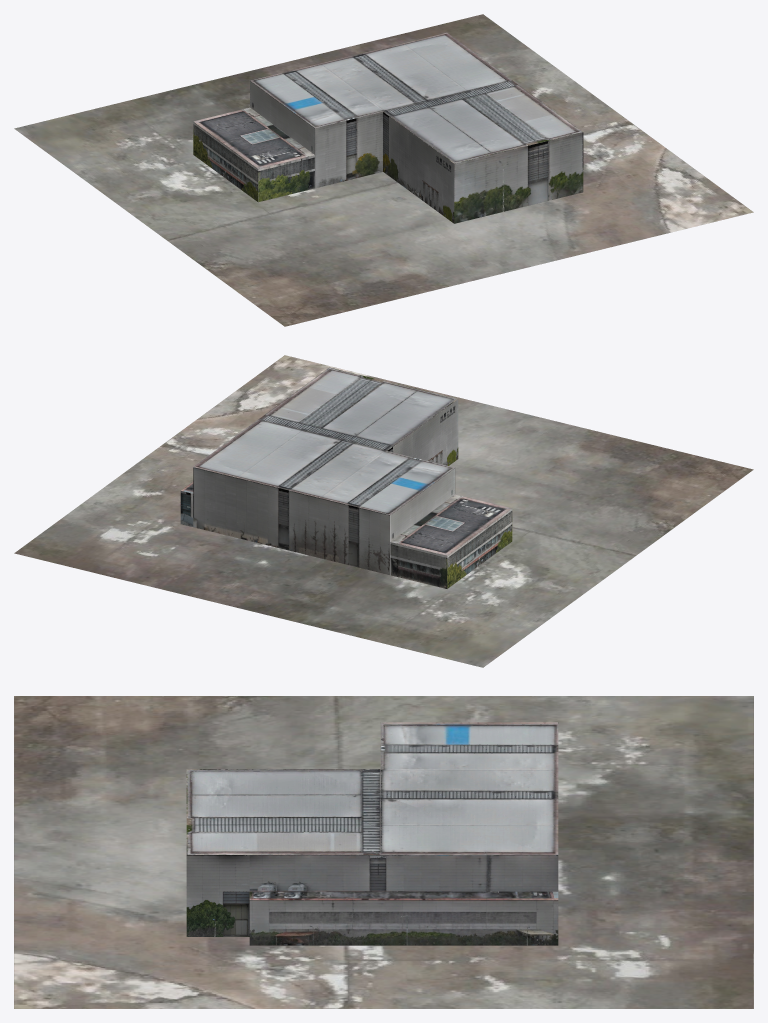
The model's file is 同济大学地震工程馆模型.gltf.
3 views of the same model, one above another, from view 1: azimuth 30°, elevation 25°; view 2: azimuth 150°, elevation 25°; view 3: azimuth 270°, elevation 25° (orthographic). The views are drawn at different scales.
Parts seen in each view (by area): view 1: Ground, 2-head, 1-head, 1-right, 1-front, 2-right, 3-head, 3-front, 3-right, 2-front; view 2: Ground, 2-head, 2-left, 1-head, 3-head, 1-front, 3-front, 3-left, 2-front; view 3: Ground, 2-head, 1-head, 4-back, 1-back(2), 1-back(1), 4-head.
Part boxes in pixels (x1,y1,x2,y2): Ground: [14, 14, 753, 326]; 2-head: [250, 32, 511, 128]; 1-head: [383, 80, 582, 163]; 1-right: [454, 132, 583, 223]; 1-front: [383, 112, 454, 223]; 2-right: [315, 112, 382, 188]; 3-head: [193, 107, 314, 168]; 3-front: [193, 122, 257, 201]; 3-right: [258, 155, 314, 202]; 2-front: [250, 81, 314, 154]; Ground: [14, 355, 753, 667]; 2-head: [194, 419, 454, 514]; 2-left: [193, 467, 389, 574]; 1-head: [258, 367, 457, 450]; 3-head: [390, 494, 511, 555]; 1-front: [387, 399, 458, 465]; 3-front: [447, 508, 512, 588]; 3-left: [390, 542, 447, 588]; 2-front: [390, 468, 455, 541]; Ground: [14, 696, 753, 1008]; 2-head: [380, 723, 558, 854]; 1-head: [186, 769, 380, 854]; 4-back: [249, 900, 558, 945]; 1-back(2): [249, 855, 558, 891]; 1-back(1): [186, 855, 249, 936]; 4-head: [249, 891, 558, 899].
Bounding box in the file's own units: 200 × 24.5 × 200.
Materials: 19 (18 with a texture image).
